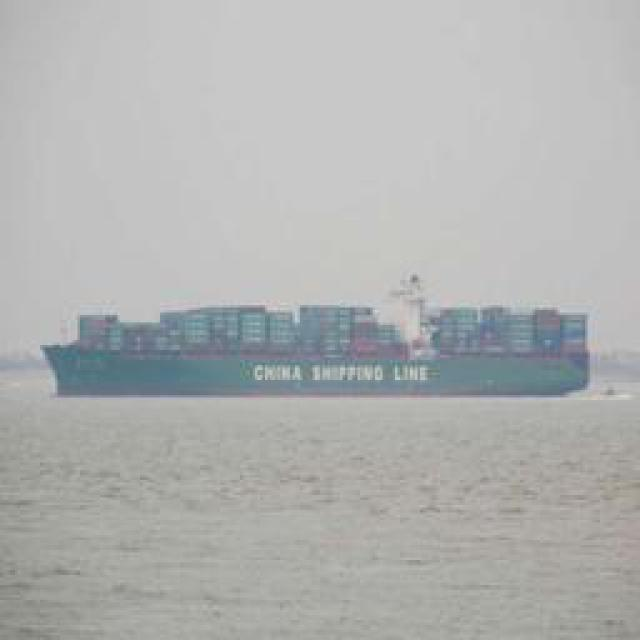Ship: (44, 292, 584, 400)
